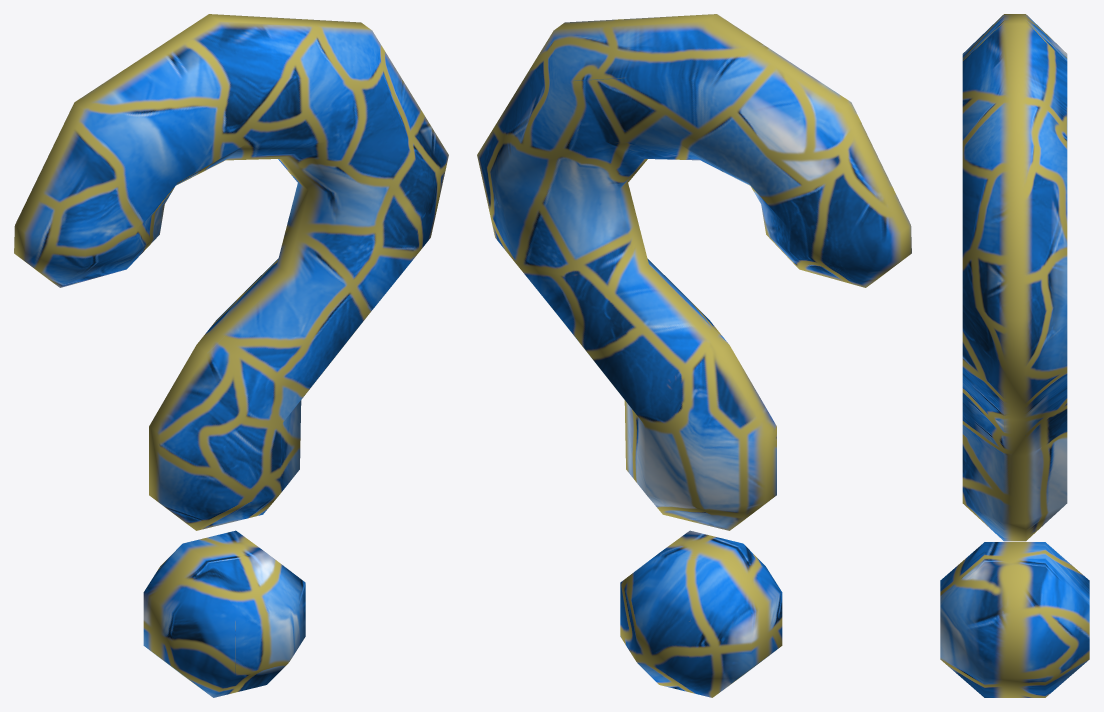
Rendered from questionmarkStainedGlass.glb.
3 renders of one model, left to right at view 1: azimuth 30°, elevation 25°; view 2: azimuth 150°, elevation 25°; view 3: azimuth 270°, elevation 25°, orthographic.
Parts seen in each view (by area): view 1: Cube.001; view 2: Cube.001; view 3: Cube.001.
Part boxes in pixels (box(x1,y1,x2,y2)): Cube.001: box(14, 14, 448, 697); Cube.001: box(477, 14, 911, 697); Cube.001: box(940, 14, 1089, 697).
Size of the model in its own units: 1 by 1.5 by 0.3099.
Materials: 1 (1 with a texture image).
